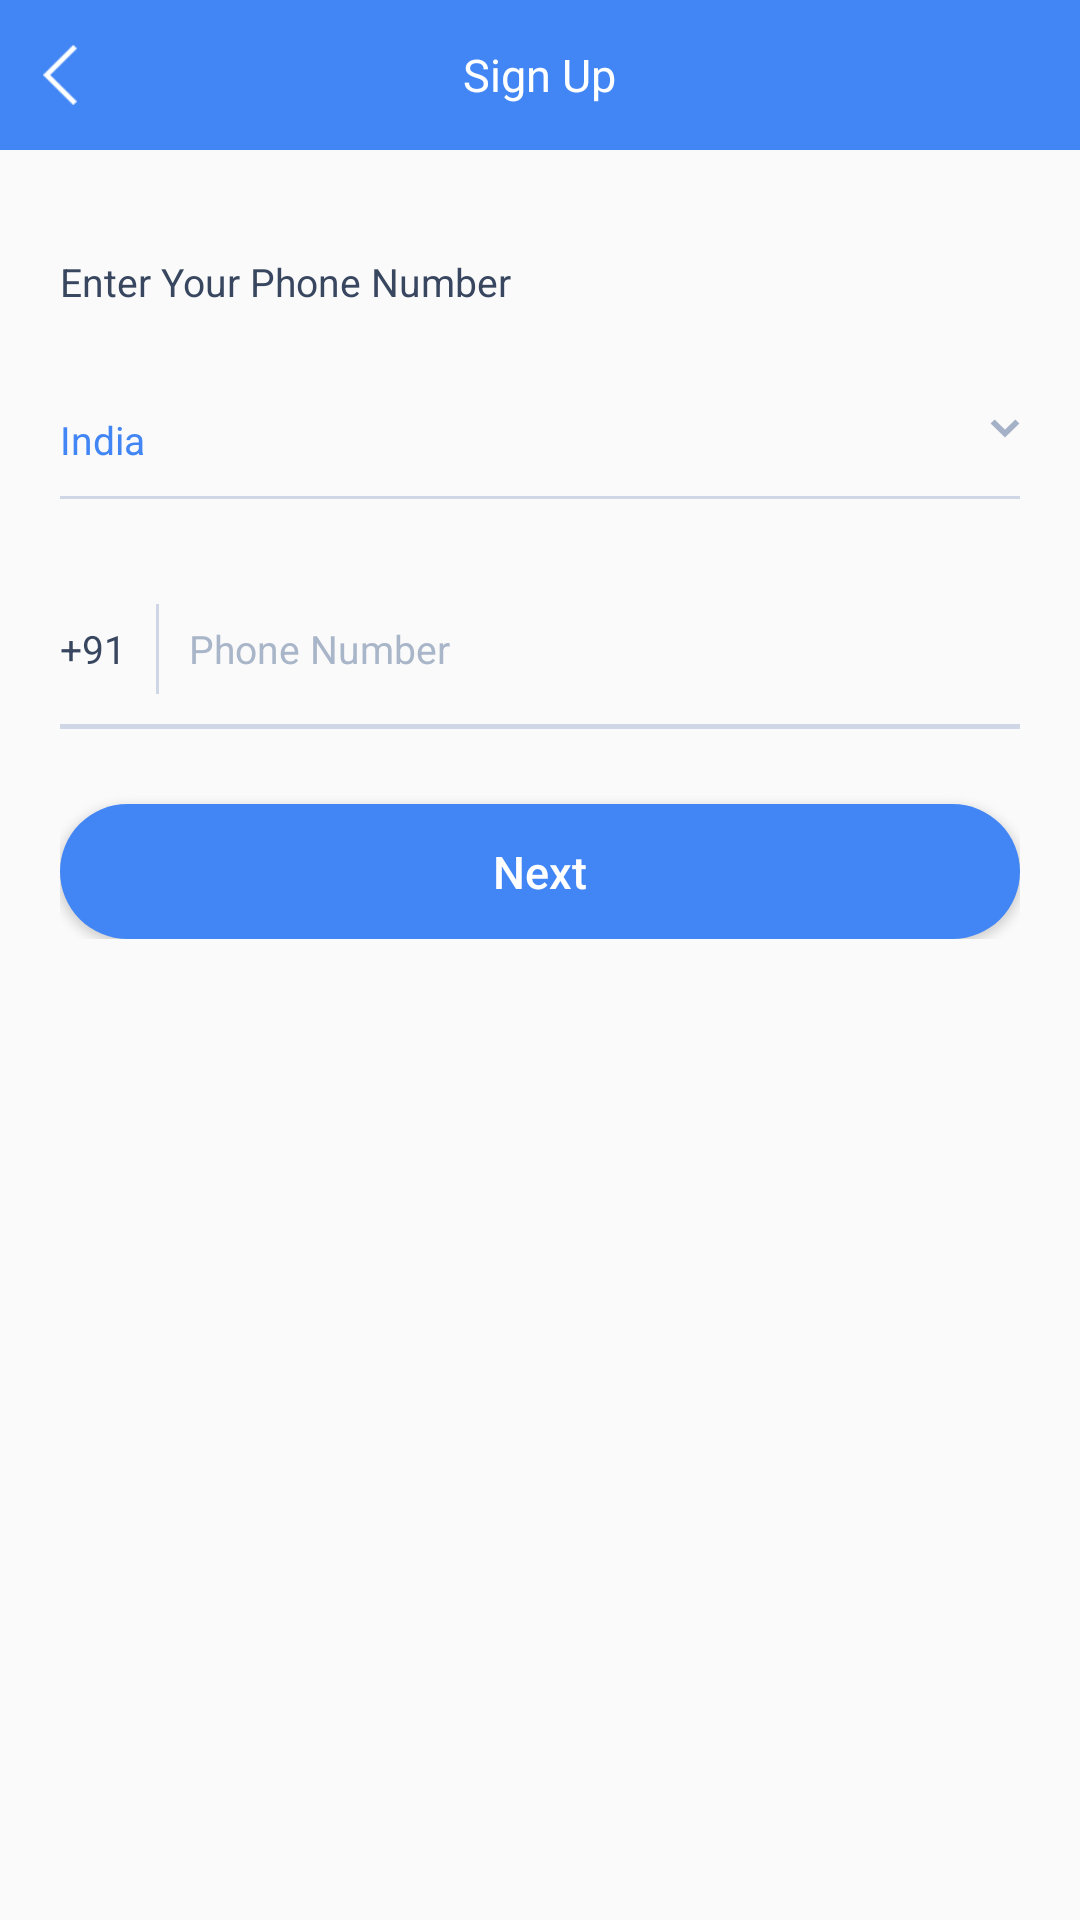

Point at icon controls on the screen. Image size 1080 × 1920, points as point (x, y).
arrowback: point (60, 75)
arrwodown: point (1005, 428)
